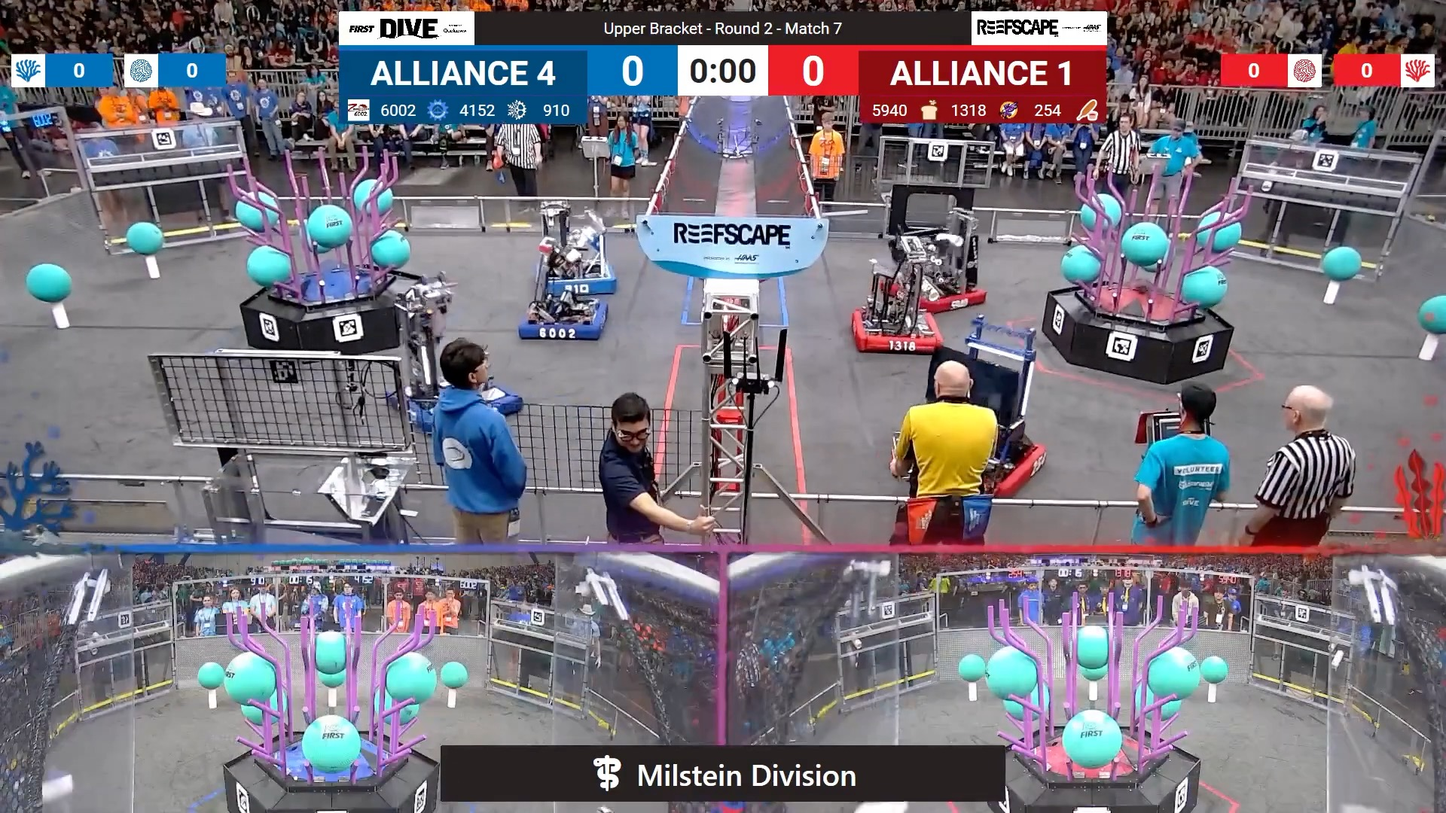bumpers: (884, 424, 1047, 495), (392, 381, 533, 438), (847, 309, 949, 361), (892, 269, 993, 315), (513, 301, 611, 346), (538, 253, 620, 298)
